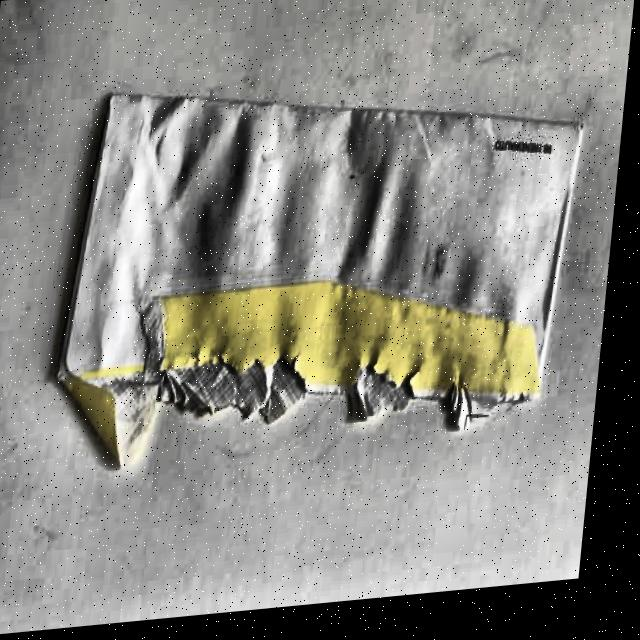paper: (46, 42, 591, 480)
